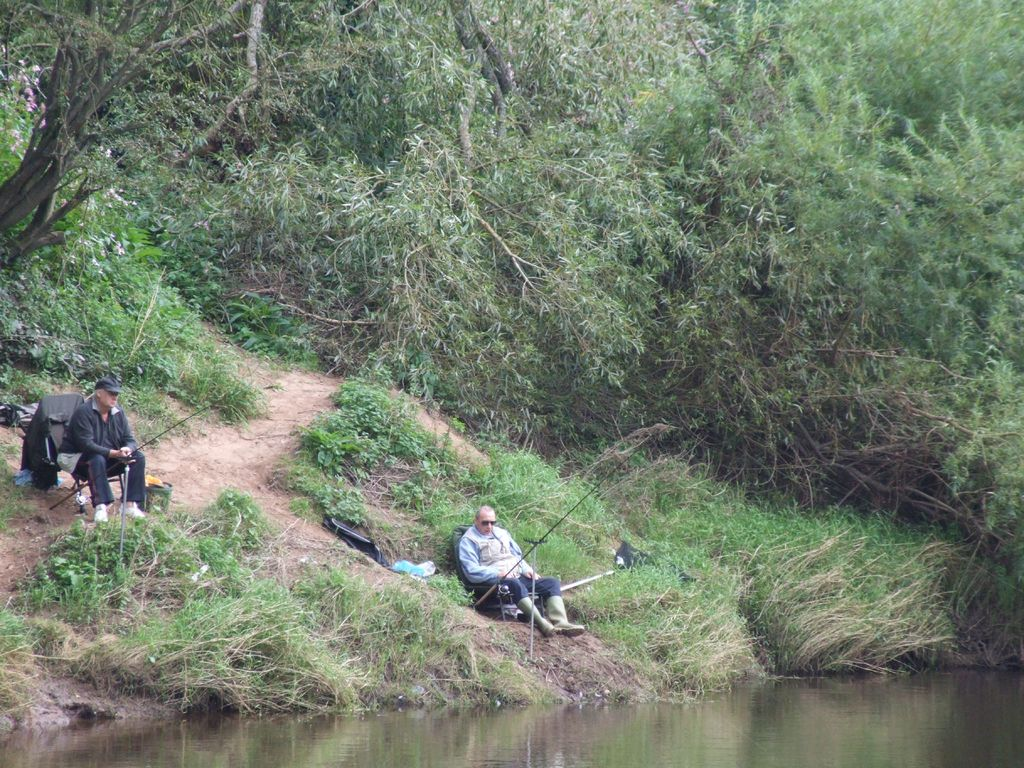Tree: (0, 0, 645, 462), (661, 94, 1024, 667), (678, 0, 1023, 113)
